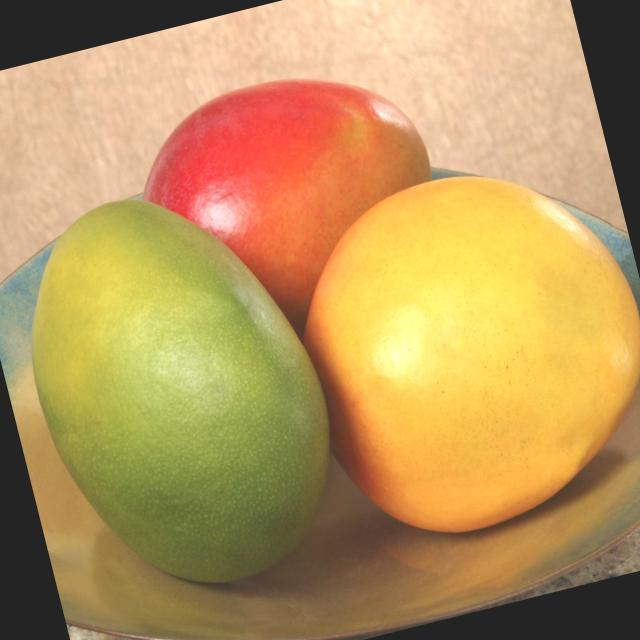mango: (0, 153, 380, 633), (276, 141, 640, 559), (122, 51, 450, 366)
